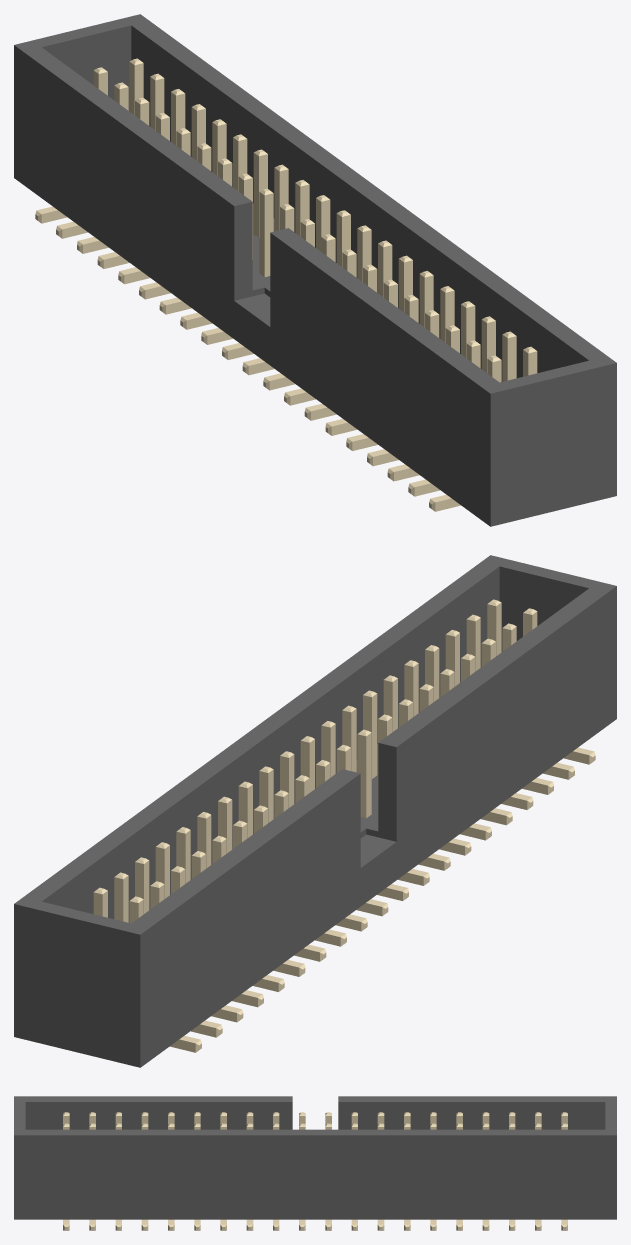
Rendered from kc-idc-header_2x20_p2.54mm_vertical_smd.glb.
The picture shows the model from 3 angles, top to bottom: view 1: azimuth 30°, elevation 25°; view 2: azimuth 150°, elevation 25°; view 3: azimuth 270°, elevation 25°; orthographic projection. The views are drawn at different scales.
Visible parts, largest first — view 1: 0.16666666666666666_0.16666666666666666_0.16666666666666666_, 0.8333333333333334_0.75_0.5_0.9; view 2: 0.16666666666666666_0.16666666666666666_0.16666666666666666_, 0.8333333333333334_0.75_0.5_0.9; view 3: 0.16666666666666666_0.16666666666666666_0.16666666666666666_, 0.8333333333333334_0.75_0.5_0.9.
Boxes of the visible parts, left/top/right/bottom form: 0.16666666666666666_0.16666666666666666_0.16666666666666666_: left=14, top=14, right=616, bottom=526; 0.8333333333333334_0.75_0.5_0.9: left=35, top=58, right=537, bottom=511; 0.16666666666666666_0.16666666666666666_0.16666666666666666_: left=14, top=555, right=616, bottom=1067; 0.8333333333333334_0.75_0.5_0.9: left=93, top=599, right=595, bottom=1052; 0.16666666666666666_0.16666666666666666_0.16666666666666666_: left=14, top=1096, right=616, bottom=1219; 0.8333333333333334_0.75_0.5_0.9: left=63, top=1112, right=567, bottom=1230.
Size of the model in its own units: 1.16 by 0.9638 by 5.84.
